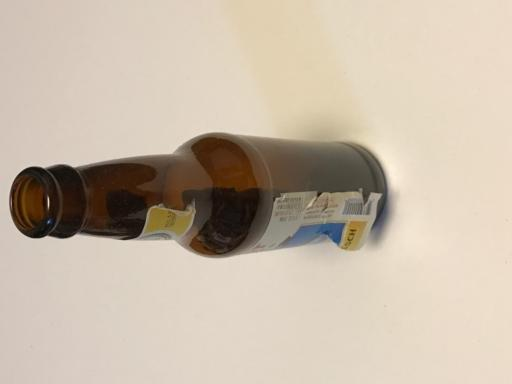botolkaca: (9, 133, 387, 255)
